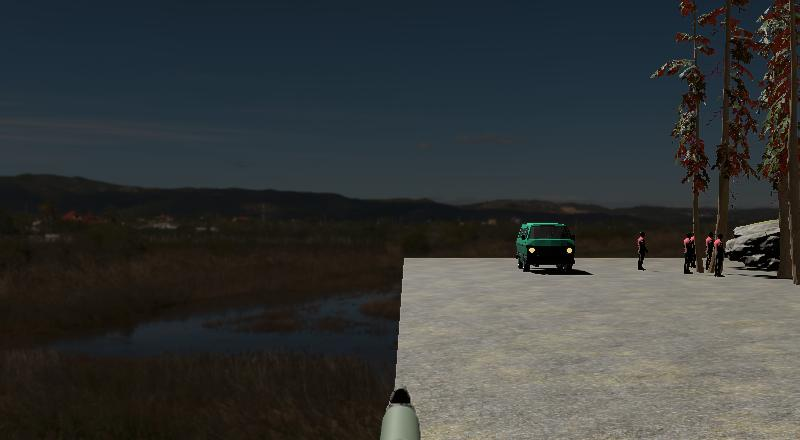Human: (712, 230, 726, 278), (681, 231, 694, 276), (704, 229, 714, 272)
car: (516, 221, 576, 274)
